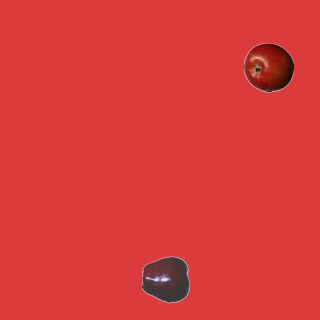Apple Braeburn: (243, 42, 293, 92)
Apple Red Delicious: (141, 254, 191, 304)
